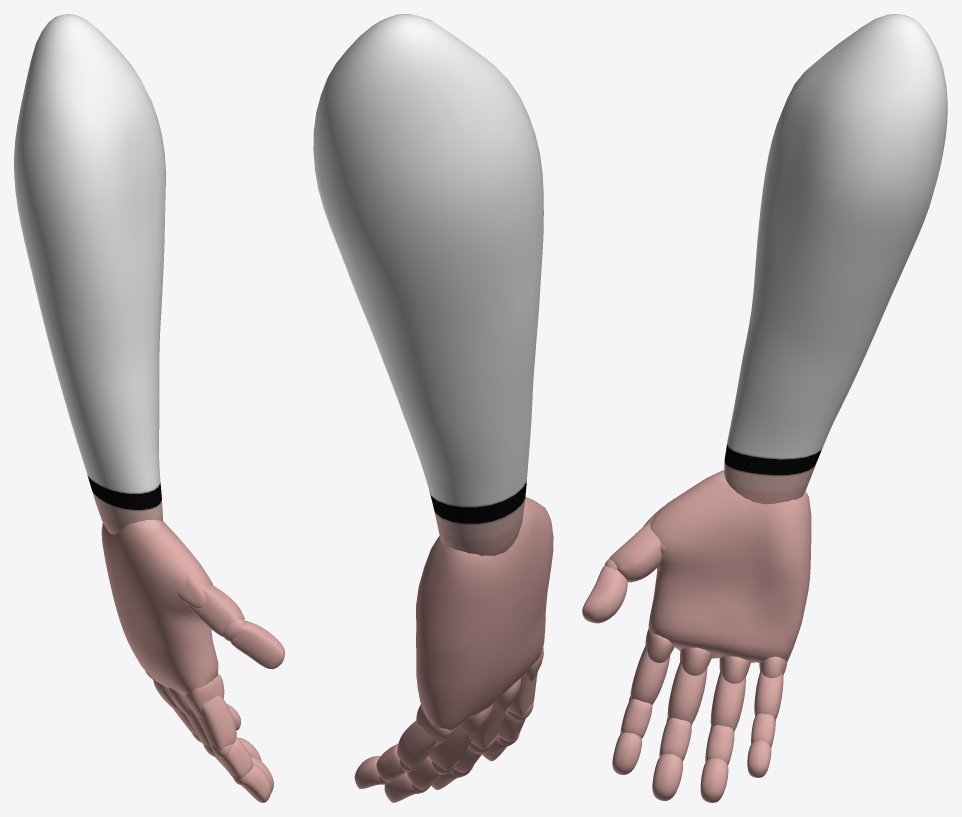
The model's file is armdownright.fbx.
3 renders of one model, left to right at view 1: azimuth 30°, elevation 25°; view 2: azimuth 150°, elevation 25°; view 3: azimuth 270°, elevation 25°, orthographic. The views are drawn at different scales.
Parts seen in each view (by area): view 1: armdownright; view 2: armdownright; view 3: armdownright.
Part boxes in pixels (x1,y1,x2,y2): armdownright: (14, 14, 284, 802); armdownright: (313, 14, 553, 802); armdownright: (582, 14, 947, 802).
Size of the model in its own units: 7.33 by 28.82 by 12.88.
